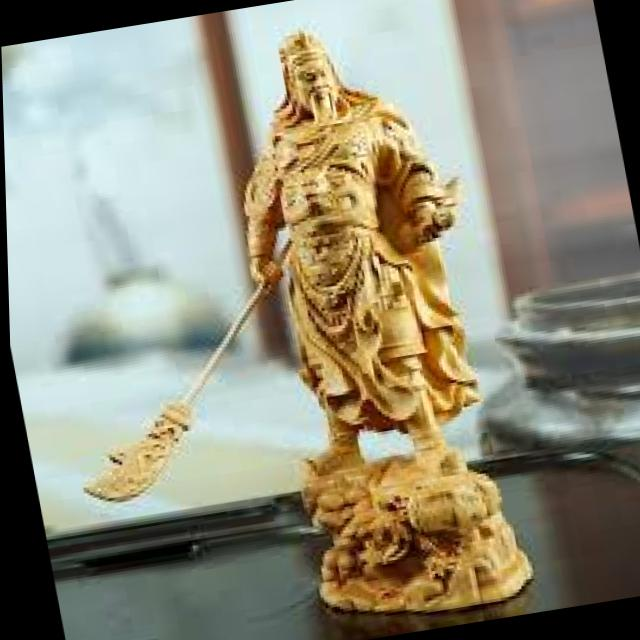Guan Yu: (209, 9, 497, 462)
